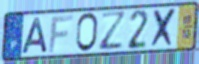2: (127, 9, 150, 51)
A: (20, 16, 50, 55)
F: (47, 14, 74, 54)
O: (74, 11, 99, 54)
X: (149, 7, 179, 49)
Z: (98, 10, 128, 53)
